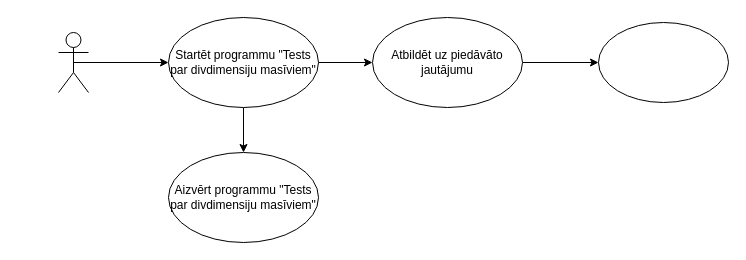
The diagram is 746 pixels wide and 260 high, and some of its shapes have lost their labels. The centre of each missing label's shape, as x and y in pixels:
Programmas lietotājs: point 73,62
Testa beigās paskatīties jautājumu skaitu un pareizo atbilžu skaitu: point 663,62
